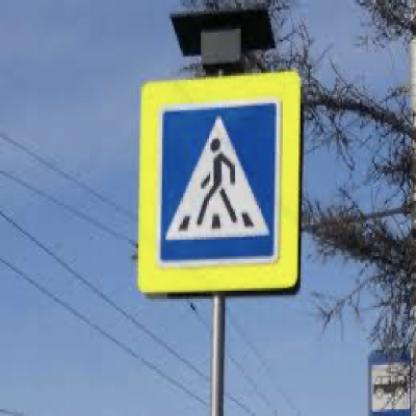crosswalk: (156, 99, 281, 267)
